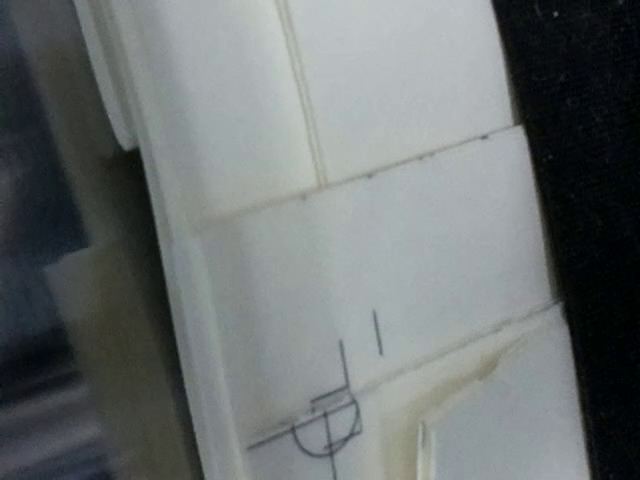misaligned: (247, 339, 370, 460)
